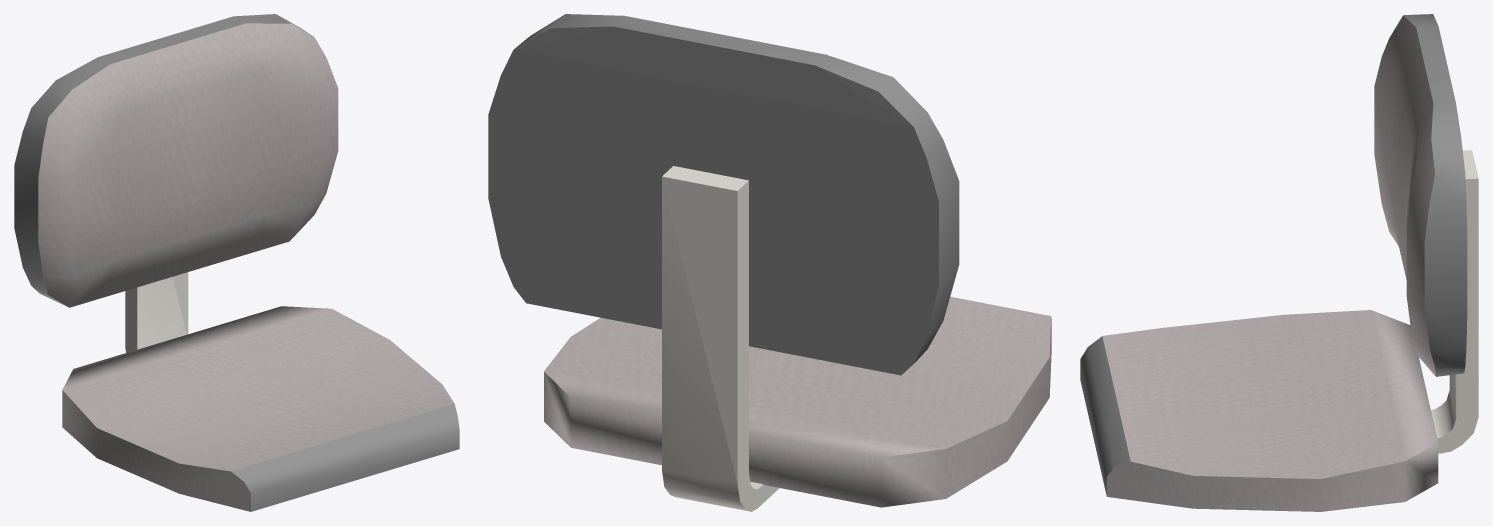
Rendered from chair.glb.
The picture shows the model from 3 angles, left to right: view 1: azimuth 30°, elevation 25°; view 2: azimuth 150°, elevation 25°; view 3: azimuth 270°, elevation 25°; orthographic projection. The views are drawn at different scales.
Visible parts, largest first — view 1: Object_42.019; view 2: Object_42.019; view 3: Object_42.019.
Boxes of the visible parts, x1,y1,x2,y2 form: Object_42.019: (14, 14, 459, 511); Object_42.019: (488, 14, 1051, 511); Object_42.019: (1080, 14, 1478, 511).
Size of the model in its own units: 0.5262 by 0.5325 by 0.5132.
Materials: 3 (1 with a texture image).
